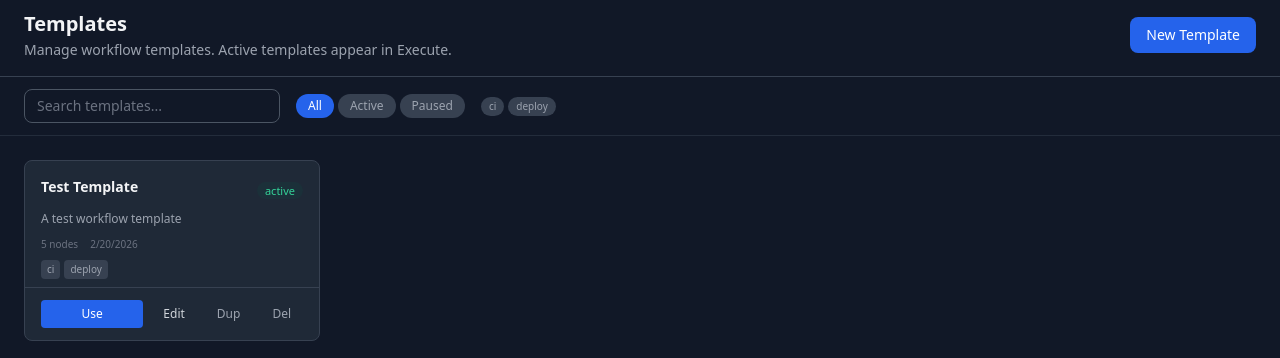
Test: TemplateManagerPage › status toggle › performs optimistic status update on toggle
The width and height of the screenshot is (1280, 358).
Expected: the text "active" is shown, [257,182,303,199]
Click the button with test id "status-badge-tpl-1" at (280, 189), box [257,177,303,201]
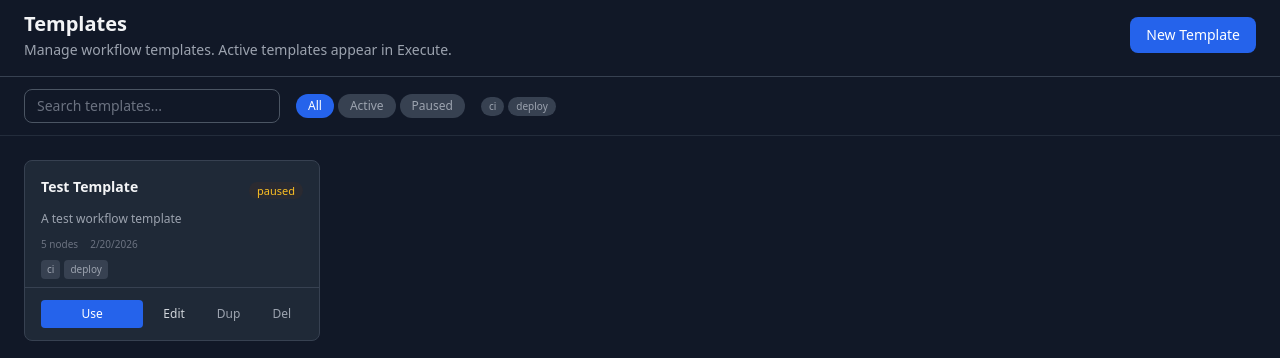
Expected: the text "paused" is shown, [249,182,303,199]
